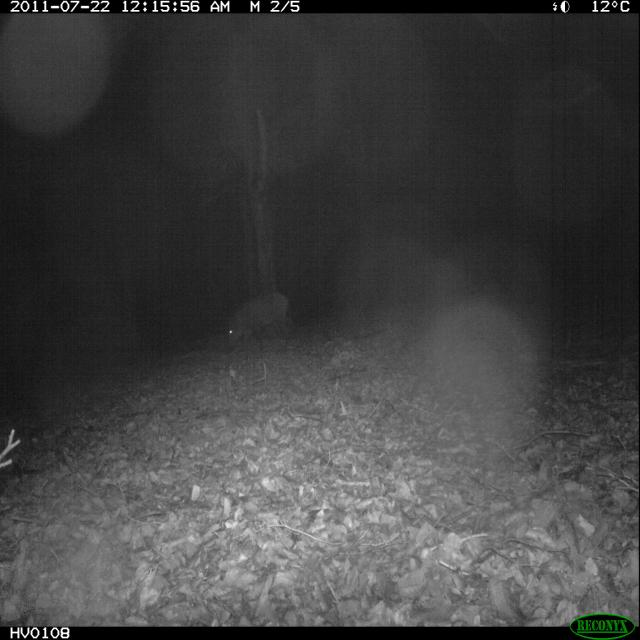boar: (214, 270, 300, 364)
